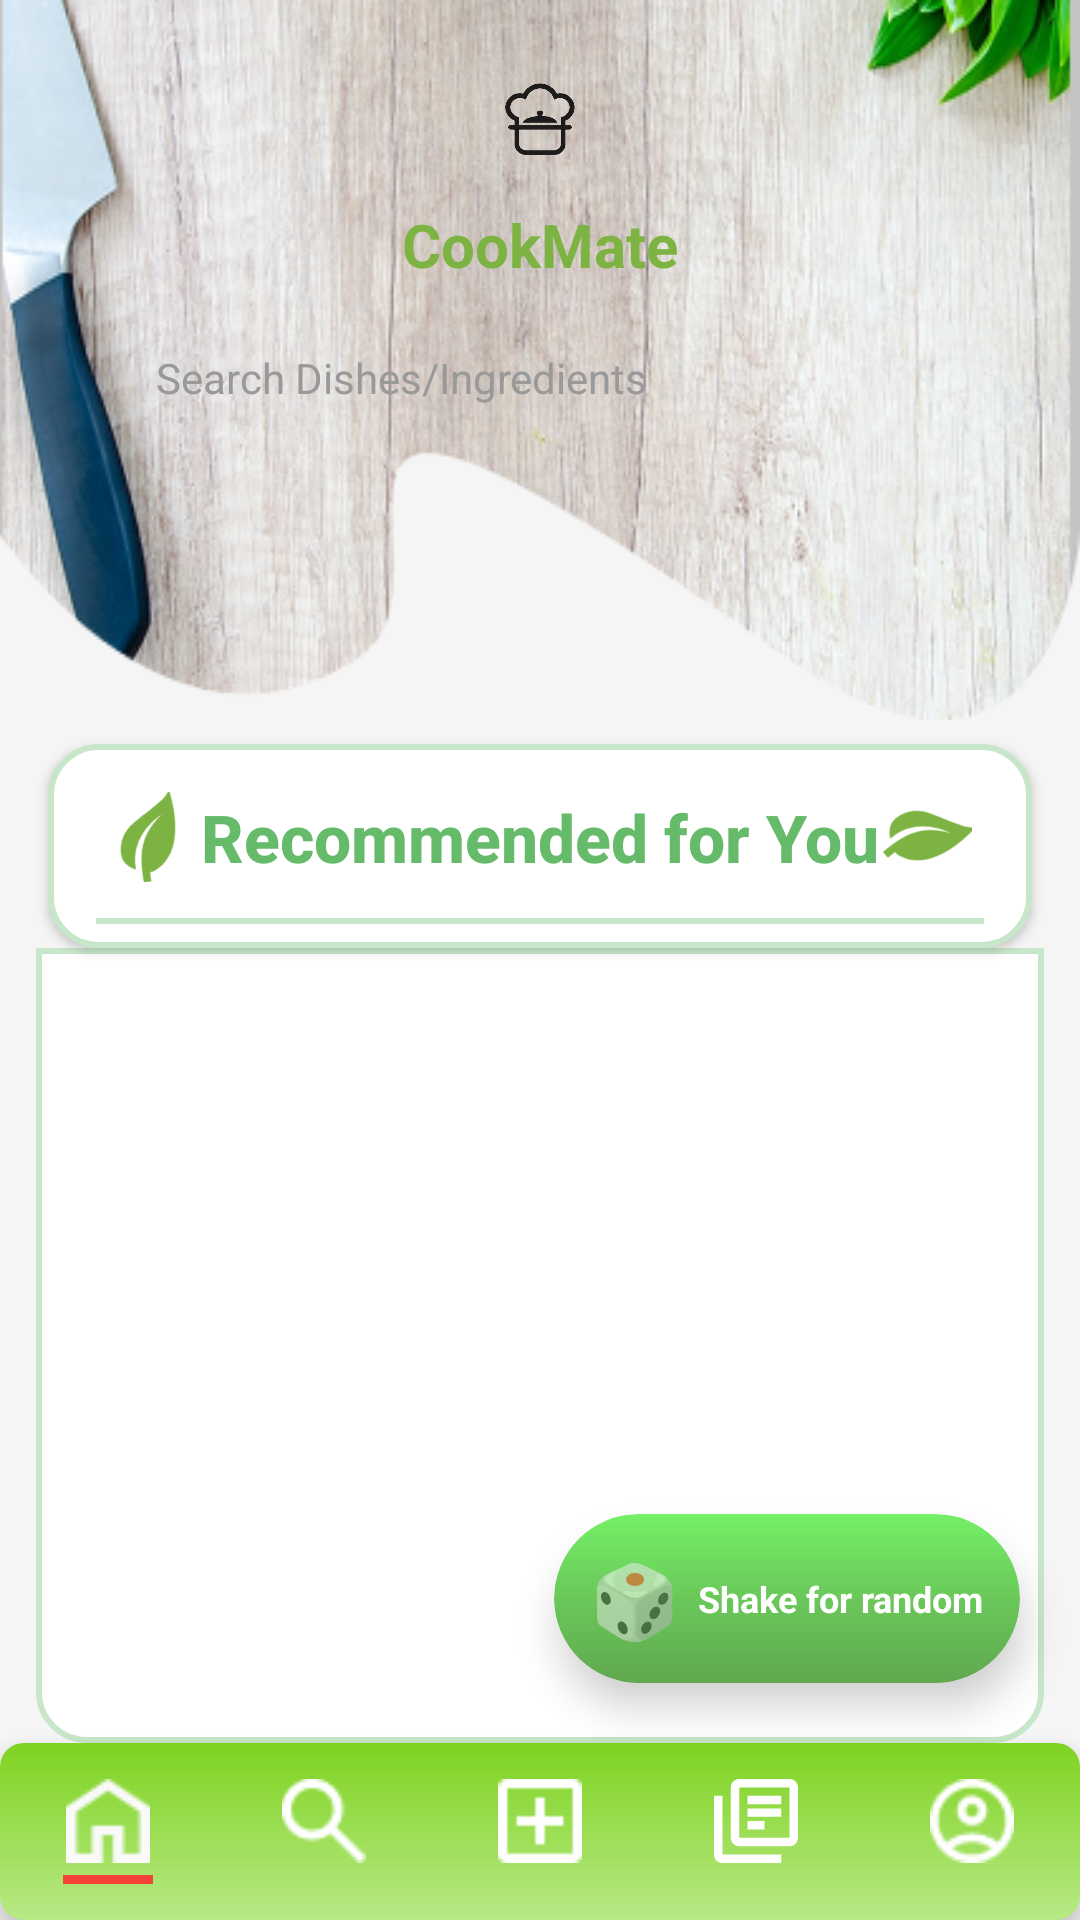

Named icons in this screenshot (1080 x 1920) and their centers, [x,y]:
add: [540,1821]
home: [108,1821]
library: [756,1821]
profile: [972,1821]
search: [324,1821]
